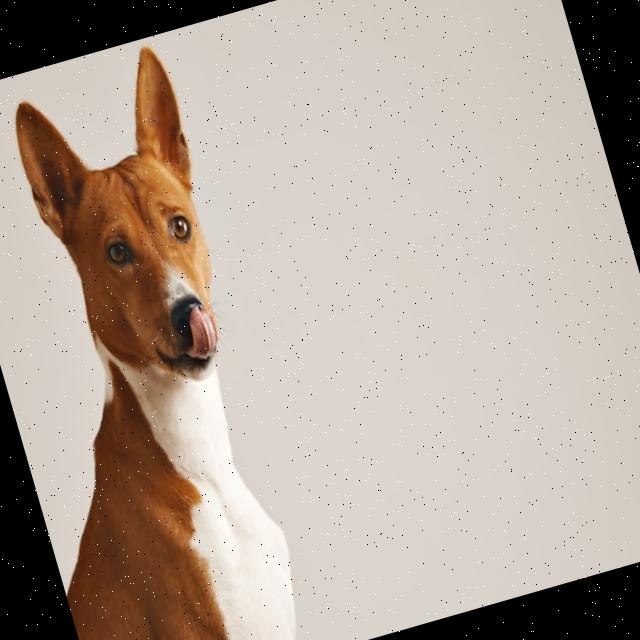Dog: (0, 44, 333, 640)
